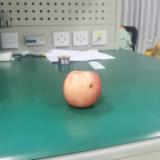apple: (63, 70, 102, 109)
